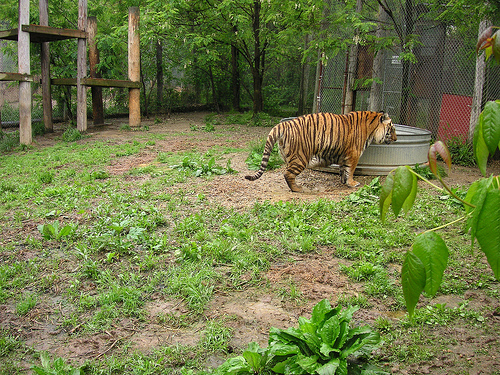Tigre: (260, 103, 405, 208)
